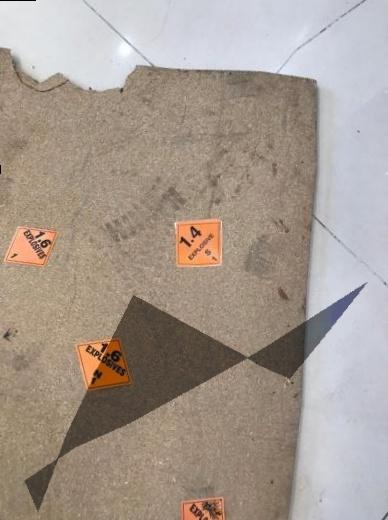explosive: (76, 331, 130, 396), (3, 222, 58, 270), (175, 218, 223, 267), (180, 496, 234, 520)
